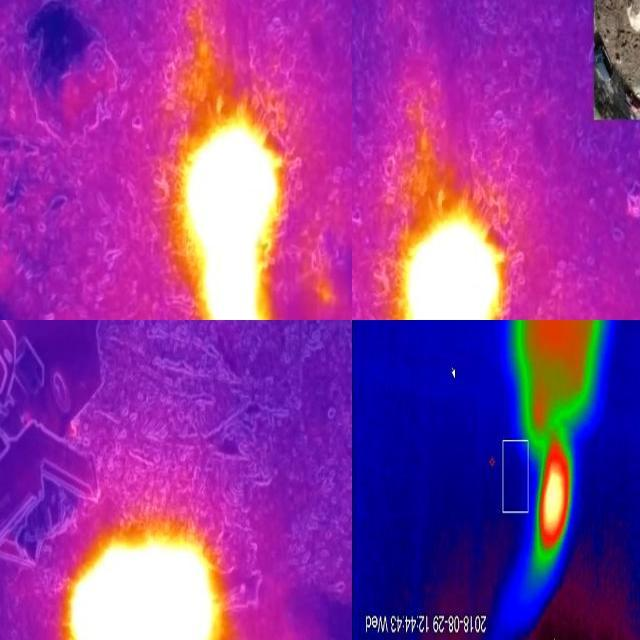fire: (176, 108, 285, 321), (57, 517, 237, 640), (401, 206, 502, 321), (532, 436, 574, 574)
